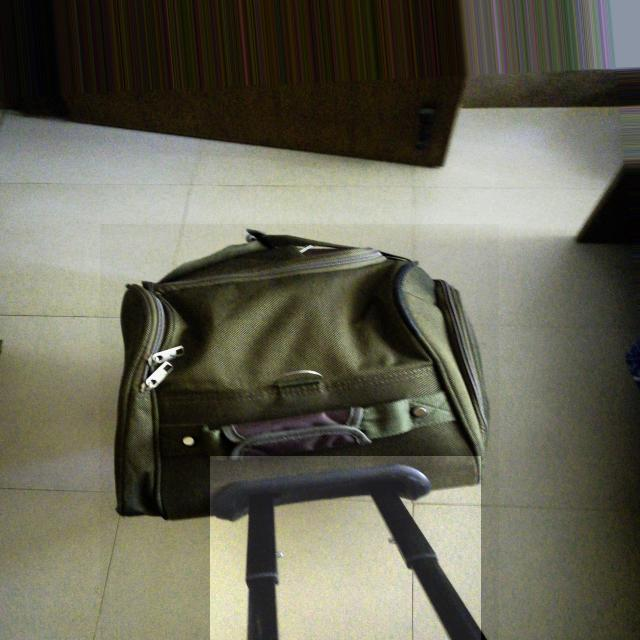Bag: (90, 206, 513, 640)
Handle: (219, 463, 490, 640)
